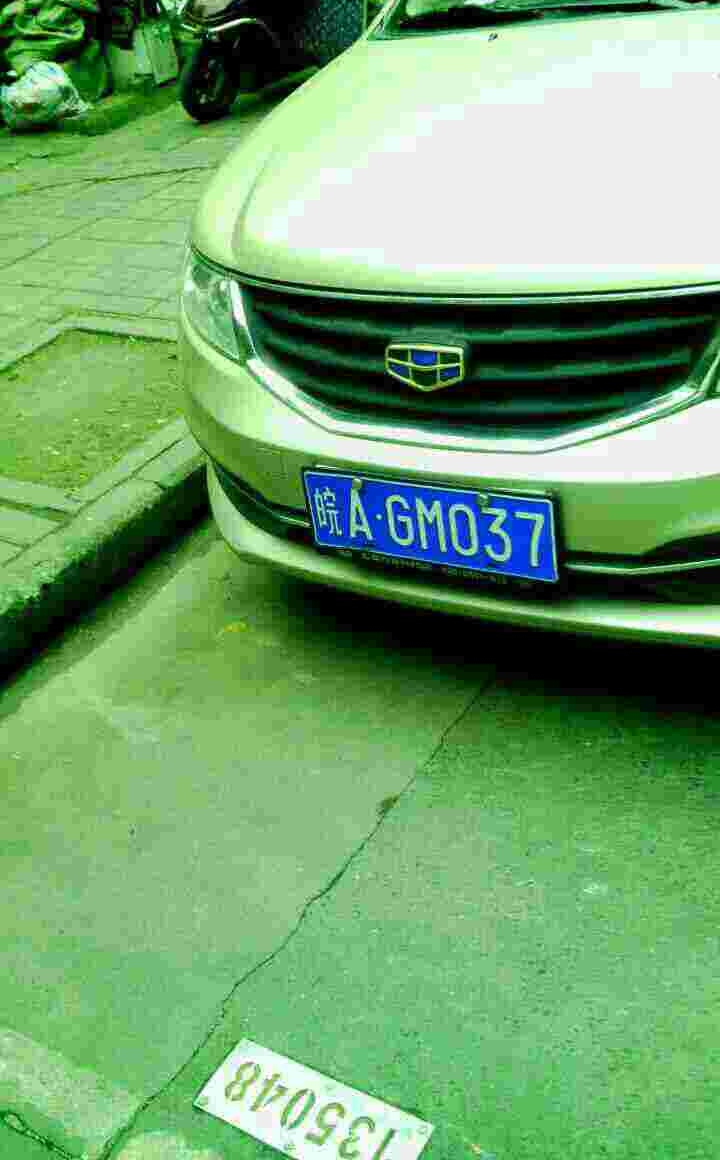license_plate: (308, 478, 566, 569)
